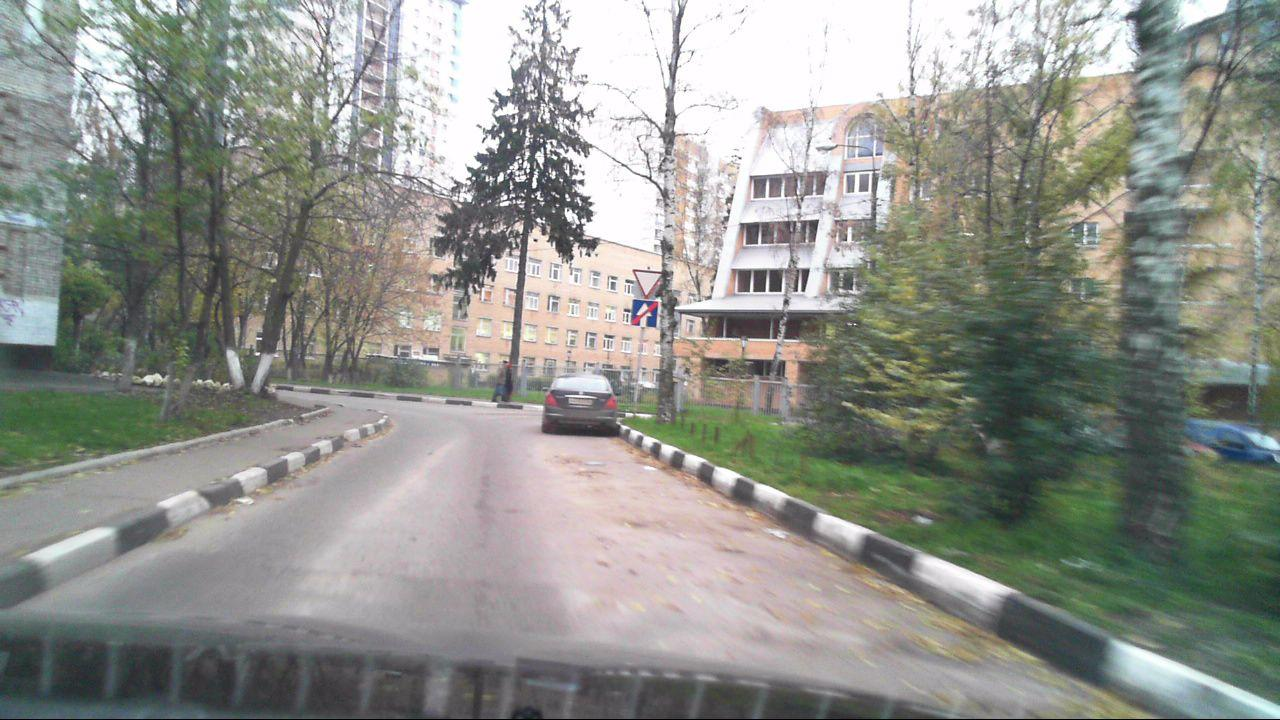2_4: (631, 266, 663, 298)
5_6: (631, 300, 657, 325)
